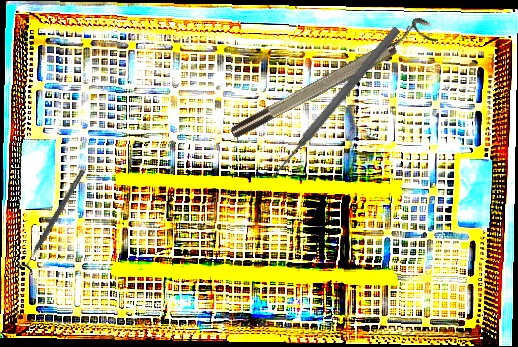Fixation Ring: (223, 13, 439, 143), (17, 166, 91, 276)
Pusher: (266, 24, 403, 183)
